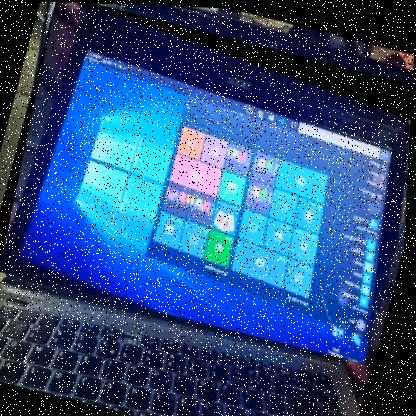Normal: (0, 0, 415, 363)
